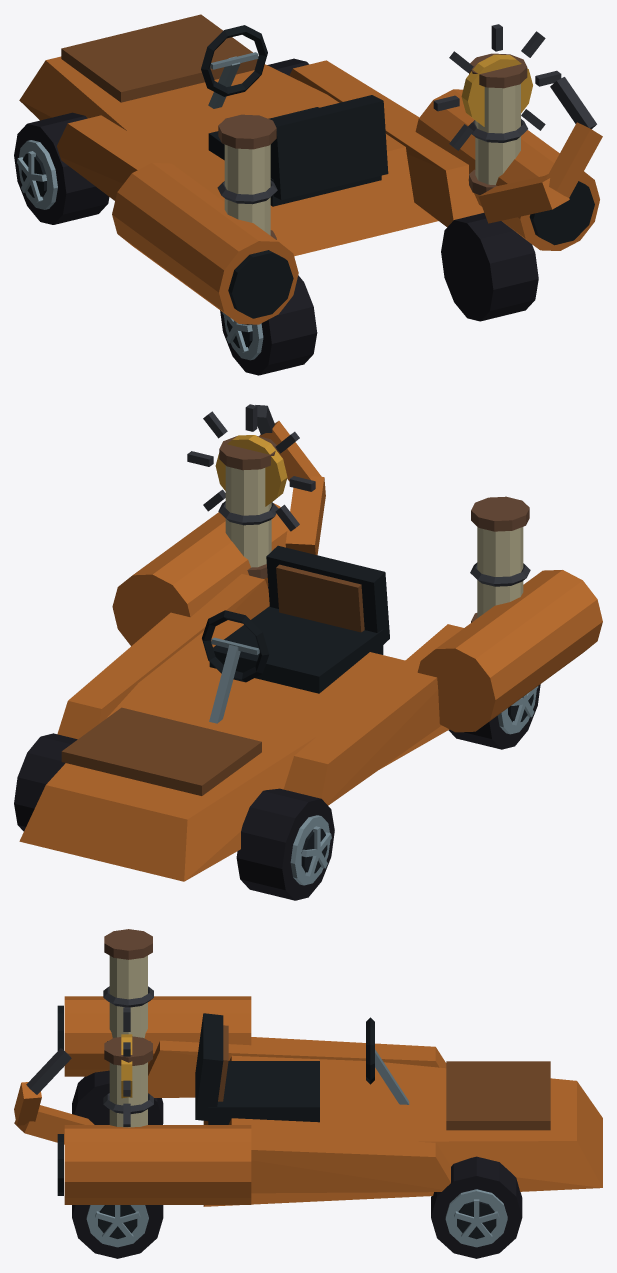
File: kart.glb
The picture shows the model from 3 angles, top to bottom: view 1: azimuth 30°, elevation 25°; view 2: azimuth 150°, elevation 25°; view 3: azimuth 270°, elevation 25°; orthographic projection. The views are drawn at different scales.
Visible parts, largest first — view 1: identity-speeder-speeder-long-cowl-and-stern-turbines, identity-speeder-driver-cockpit, identity-speeder-motif-scrolls, wheel-rear-right, wheel-front-left, identity-speeder-motif-tail, wheel-rear-left, identity-speeder-motif-sun; view 2: identity-speeder-speeder-long-cowl-and-stern-turbines, identity-speeder-driver-cockpit, identity-speeder-motif-scrolls, wheel-front-left, identity-speeder-motif-tail, identity-speeder-motif-sun, wheel-front-right, wheel-rear-left; view 3: identity-speeder-speeder-long-cowl-and-stern-turbines, identity-speeder-driver-cockpit, identity-speeder-motif-scrolls, wheel-front-right, wheel-rear-right, identity-speeder-motif-tail, wheel-rear-left, identity-speeder-motif-sun.
Part boxes in pixels (x1=…): identity-speeder-speeder-long-cowl-and-stern-turbines: x1=19, y1=14, x2=599, y2=324; identity-speeder-driver-cockpit: x1=201, y1=25, x2=388, y2=206; identity-speeder-motif-scrolls: x1=217, y1=53, x2=527, y2=239; wheel-rear-right: x1=441, y1=213, x2=538, y2=321; wheel-front-left: x1=14, y1=112, x2=109, y2=224; identity-speeder-motif-tail: x1=478, y1=77, x2=602, y2=223; wheel-rear-left: x1=220, y1=275, x2=317, y2=375; identity-speeder-motif-sun: x1=433, y1=24, x2=561, y2=150; identity-speeder-speeder-long-cowl-and-stern-turbines: x1=19, y1=503, x2=602, y2=881; identity-speeder-driver-cockpit: x1=202, y1=545, x2=389, y2=723; identity-speeder-motif-scrolls: x1=218, y1=436, x2=530, y2=622; wheel-front-left: x1=236, y1=788, x2=334, y2=900; identity-speeder-motif-tail: x1=255, y1=405, x2=325, y2=555; identity-speeder-motif-sun: x1=187, y1=404, x2=315, y2=531; wheel-front-right: x1=14, y1=733, x2=77, y2=831; wheel-rear-left: x1=448, y1=684, x2=540, y2=749; identity-speeder-speeder-long-cowl-and-stern-turbines: x1=57, y1=996, x2=602, y2=1206; identity-speeder-driver-cockpit: x1=195, y1=1013, x2=409, y2=1124; identity-speeder-motif-scrolls: x1=103, y1=929, x2=153, y2=1127; wheel-front-right: x1=431, y1=1156, x2=522, y2=1258; wheel-rear-right: x1=72, y1=1205, x2=163, y2=1258; identity-speeder-motif-tail: x1=14, y1=1048, x2=94, y2=1144; wheel-rear-left: x1=72, y1=1070, x2=163, y2=1124; identity-speeder-motif-sun: x1=121, y1=1007, x2=132, y2=1126.
Size of the model in its own units: 2.1 by 1.47 by 3.22.
